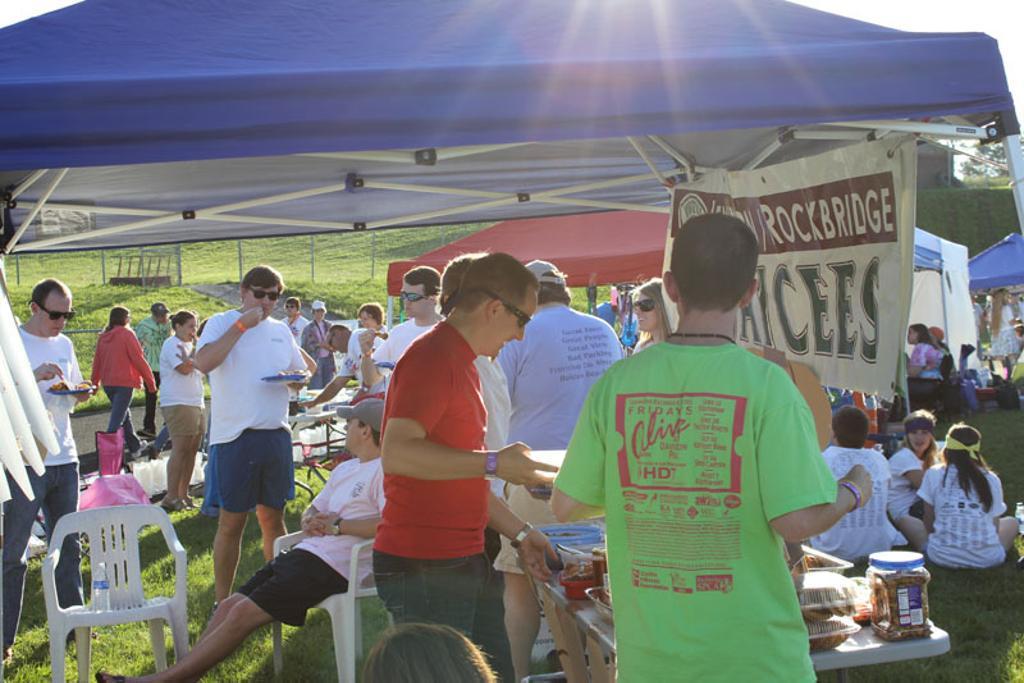face: (488, 298, 537, 359), (41, 302, 77, 337), (248, 286, 279, 322), (343, 412, 371, 449), (634, 298, 658, 331), (402, 287, 426, 316), (910, 427, 931, 451), (175, 320, 197, 342), (327, 329, 346, 353), (361, 315, 374, 332), (118, 314, 131, 329), (907, 329, 919, 344), (158, 310, 169, 324), (314, 307, 325, 319), (286, 303, 296, 315), (1003, 293, 1010, 304)
